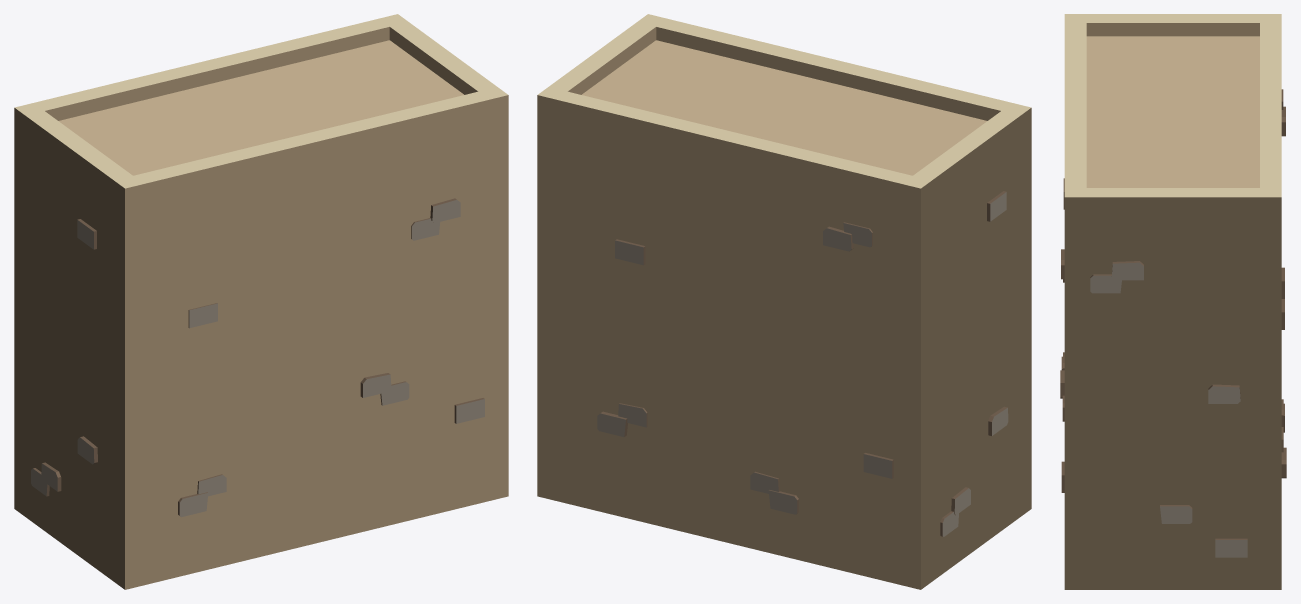
File: TB_D_Bd_Body_Tall_Wide.FBX
3 views of the same model, side by side, from view 1: azimuth 30°, elevation 25°; view 2: azimuth 150°, elevation 25°; view 3: azimuth 270°, elevation 25° (orthographic). The views are drawn at different scales.
Visible parts, largest first — view 1: TB_D_Bd_Body_Tall_Wide; view 2: TB_D_Bd_Body_Tall_Wide; view 3: TB_D_Bd_Body_Tall_Wide.
Boxes of the visible parts, x1=… form: TB_D_Bd_Body_Tall_Wide: x1=14, y1=14, x2=508, y2=589; TB_D_Bd_Body_Tall_Wide: x1=537, y1=14, x2=1031, y2=589; TB_D_Bd_Body_Tall_Wide: x1=1060, y1=14, x2=1286, y2=589.
Bounding box in the file's own units: 6.12 × 6 × 3.13.
